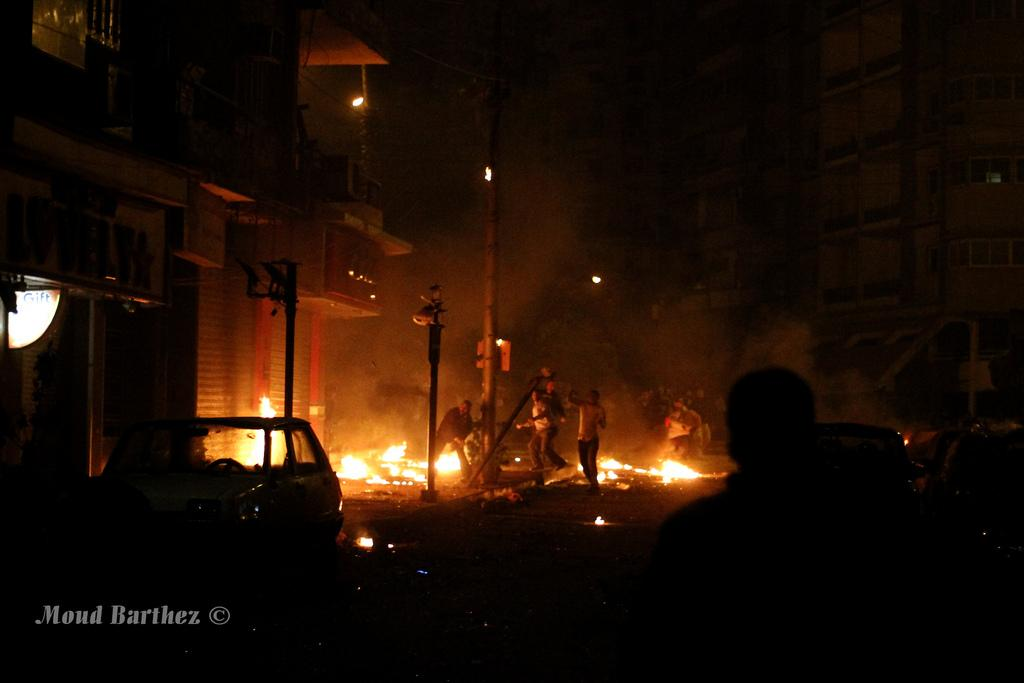fire: (342, 448, 465, 480), (605, 455, 698, 485), (232, 422, 267, 460)
